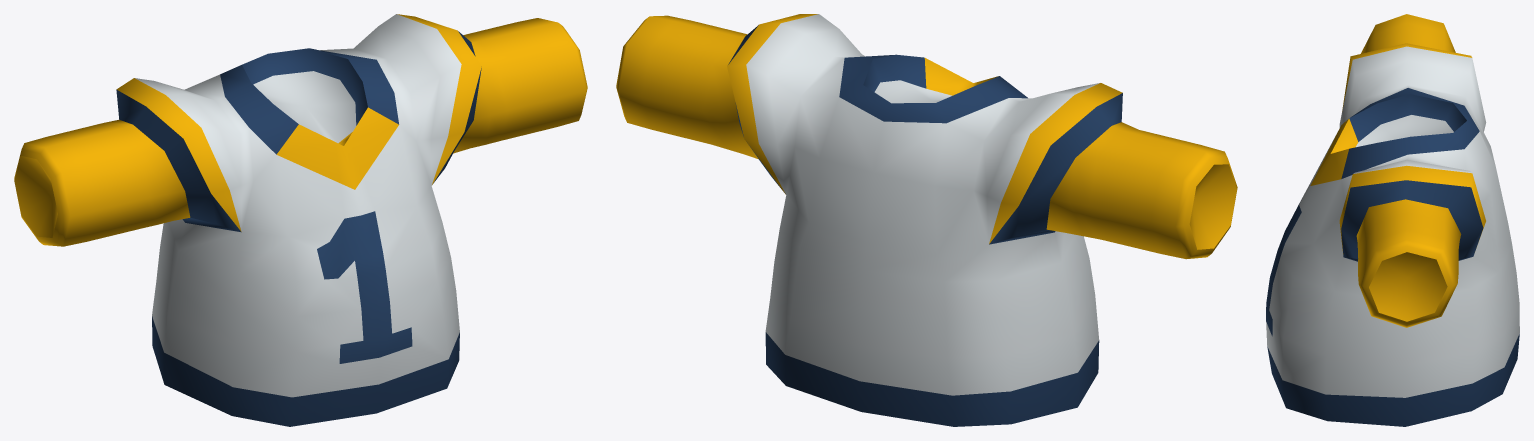
File: Top_64.fbx
3 renders of one model, left to right at view 1: azimuth 30°, elevation 25°; view 2: azimuth 150°, elevation 25°; view 3: azimuth 270°, elevation 25°, orthographic. The views are drawn at different scales.
Parts seen in each view (by area): view 1: Top_64; view 2: Top_64; view 3: Top_64.
Part boxes in pixels (<box>): Top_64: <box>14,14,587,426</box>; Top_64: <box>616,14,1237,426</box>; Top_64: <box>1266,14,1519,426</box>.
Size of the model in its own units: 81.36 by 43.6 by 37.48.
